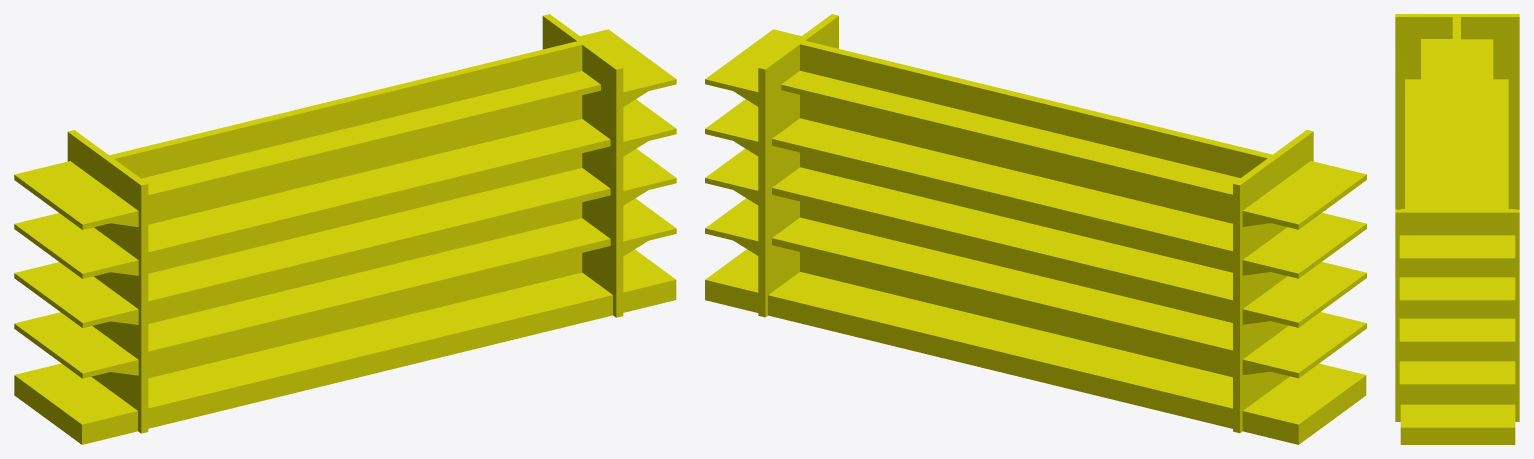
Rendered from Estante 3.fbx.
The picture shows the model from 3 angles, left to right: view 1: azimuth 30°, elevation 25°; view 2: azimuth 150°, elevation 25°; view 3: azimuth 270°, elevation 25°; orthographic projection. The views are drawn at different scales.
Parts seen in each view (by area): view 1: Box022; view 2: Box022; view 3: Box022.
Boxes of the visible parts, x1,y1,x2,y2 form: Box022: (14, 14, 676, 444); Box022: (705, 14, 1366, 444); Box022: (1395, 14, 1519, 444).
Bounding box in the file's own units: 74.22 × 29.61 × 15.96.
